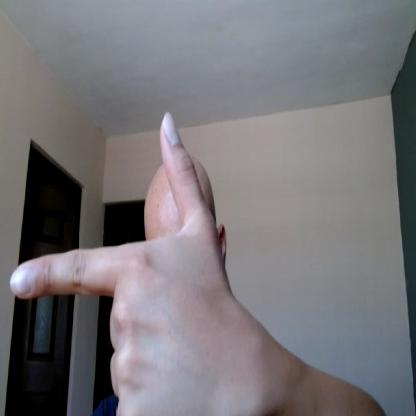G: (7, 108, 233, 415)
